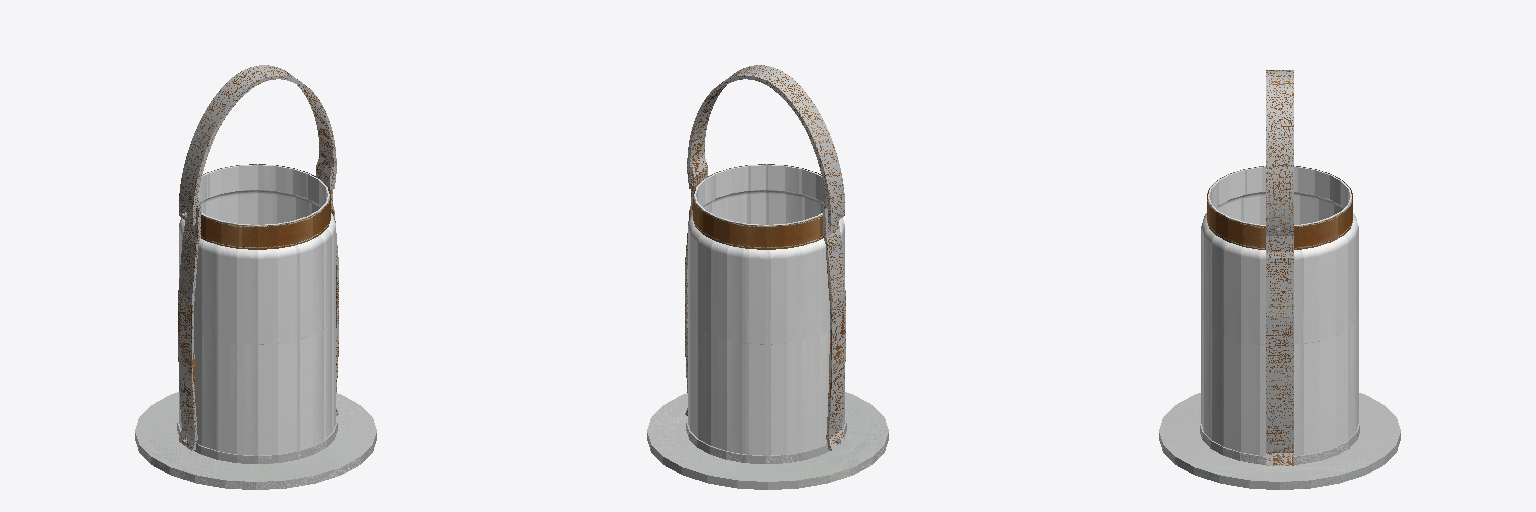
3 views of the same model, side by side, from view 1: azimuth 30°, elevation 25°; view 2: azimuth 150°, elevation 25°; view 3: azimuth 270°, elevation 25° (orthographic).
Parts seen in each view (by area): view 1: mesh1_mesh1-geometry, mesh2_mesh2-geometry, mesh5_mesh5-geometry, mesh4_mesh4-geometry, mesh9_mesh9-geometry, mesh3_mesh3-geometry, mesh11_mesh11-geometry; view 2: mesh1_mesh1-geometry, mesh2_mesh2-geometry, mesh5_mesh5-geometry, mesh4_mesh4-geometry, mesh9_mesh9-geometry, mesh3_mesh3-geometry, mesh11_mesh11-geometry; view 3: mesh1_mesh1-geometry, mesh2_mesh2-geometry, mesh11_mesh11-geometry, mesh5_mesh5-geometry, mesh9_mesh9-geometry, mesh3_mesh3-geometry.
Boxes of the visible parts, box(x1,y1,x2,y2) form: mesh1_mesh1-geometry: box(179, 164, 335, 455); mesh2_mesh2-geometry: box(135, 392, 376, 489); mesh5_mesh5-geometry: box(179, 65, 336, 225); mesh4_mesh4-geometry: box(178, 199, 201, 450); mesh9_mesh9-geometry: box(201, 164, 330, 249); mesh3_mesh3-geometry: box(177, 419, 337, 463); mesh11_mesh11-geometry: box(316, 155, 338, 415); mesh1_mesh1-geometry: box(688, 164, 844, 455); mesh2_mesh2-geometry: box(647, 392, 888, 489); mesh5_mesh5-geometry: box(687, 65, 844, 225); mesh4_mesh4-geometry: box(822, 199, 845, 450); mesh9_mesh9-geometry: box(693, 164, 822, 249); mesh3_mesh3-geometry: box(686, 419, 846, 463); mesh11_mesh11-geometry: box(685, 155, 707, 415); mesh1_mesh1-geometry: box(1201, 166, 1358, 455); mesh2_mesh2-geometry: box(1159, 393, 1400, 489); mesh11_mesh11-geometry: box(1266, 236, 1293, 465); mesh5_mesh5-geometry: box(1266, 70, 1293, 235); mesh9_mesh9-geometry: box(1207, 166, 1352, 249); mesh3_mesh3-geometry: box(1200, 422, 1359, 464).
Bounding box in the file's own units: 0.4573 × 0.7628 × 0.4573.
5 materials, 3 textured.